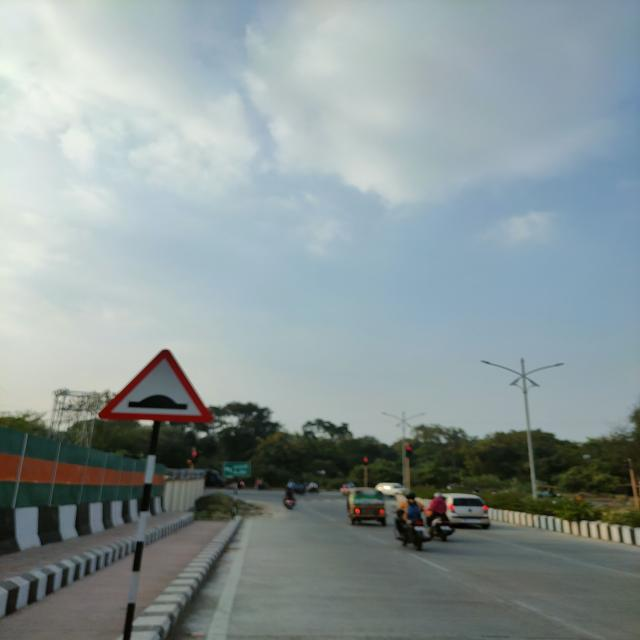HUMP_OR_ROUGH_ROAD: (99, 349, 213, 423)
